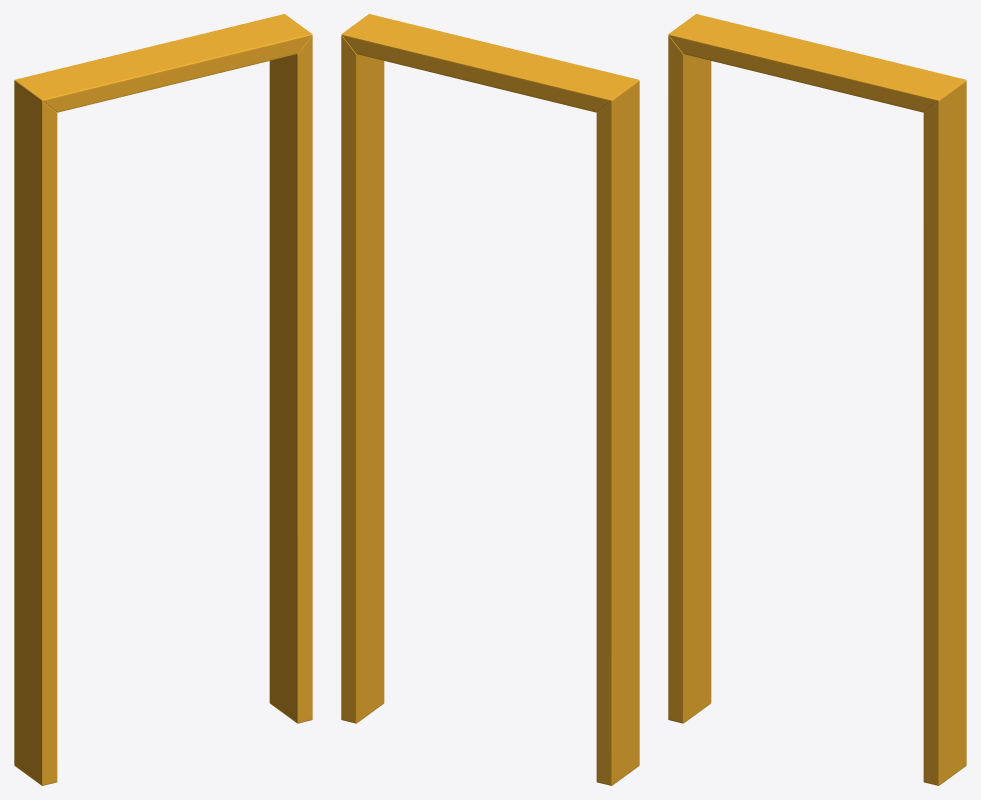
File: Restroom_Door_Frame.fbx
3 views of the same model, side by side, from view 1: azimuth 30°, elevation 25°; view 2: azimuth 150°, elevation 25°; view 3: azimuth 330°, elevation 25° (orthographic).
Visible parts, largest first — view 1: restroom_door_frame_1; view 2: restroom_door_frame_1; view 3: restroom_door_frame_1.
Boxes of the visible parts, x1=… form: restroom_door_frame_1: x1=14, y1=14, x2=312, y2=785; restroom_door_frame_1: x1=341, y1=14, x2=639, y2=785; restroom_door_frame_1: x1=668, y1=14, x2=966, y2=785.
Size of the model in its own units: 86 by 208 by 15.46.
